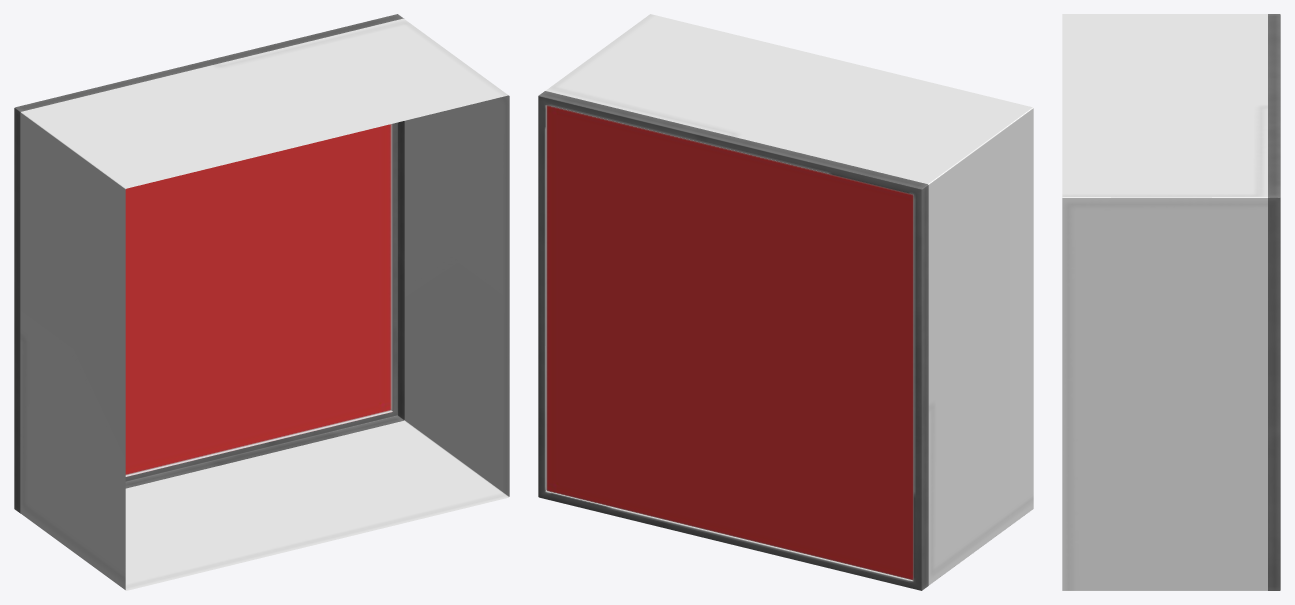
The model's file is storage cupbaord.fbx.
3 renders of one model, left to right at view 1: azimuth 30°, elevation 25°; view 2: azimuth 150°, elevation 25°; view 3: azimuth 270°, elevation 25°, orthographic. The views are drawn at different scales.
Visible parts, largest first — view 1: cupbaord__outer, cupboard__color_steel, cupboard__color_steel1; view 2: cupboard__color_steel, cupbaord__outer, cupboard__color_steel1; view 3: cupbaord__outer, cupboard__color_steel1.
Boxes of the visible parts, box(x1,y1,x2,y2) form: cupbaord__outer: box(20, 18, 509, 590); cupboard__color_steel: box(125, 124, 391, 474); cupboard__color_steel1: box(14, 14, 404, 513); cupboard__color_steel: box(546, 105, 913, 580); cupbaord__outer: box(545, 14, 1033, 585); cupboard__color_steel1: box(538, 91, 928, 590); cupbaord__outer: box(1062, 14, 1267, 590); cupboard__color_steel1: box(1268, 14, 1280, 590).
Bounding box in the file's own units: 41.09 × 41.12 × 20.68.
1 material, 1 textured.
